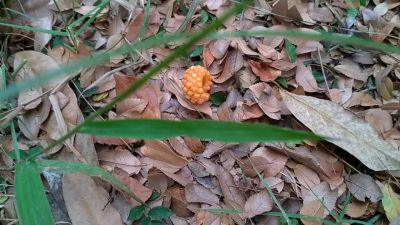eggs: (179, 64, 213, 106)
